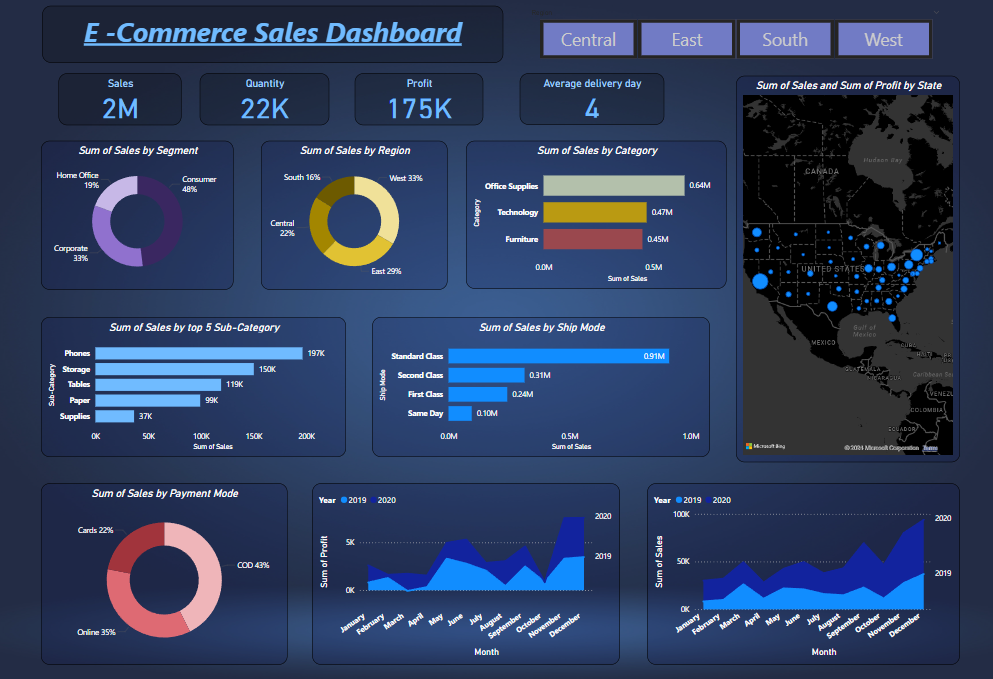

What the dashboard file says about the page in this screenshot:
{"tool":"powerbi","page":{"name":"DASHBOARD","canvas":[1600,1100],"ordinal":0},"visuals":[{"type":"clusteredBarChart","fields":{"Category":["Sheet1.Category"],"Y":["Sum(Sheet1.Sales)"]},"box":[752.9,230.8,417.1,237.1],"z":0},{"type":"clusteredBarChart","title":"Sum of Sales by top 5 Sub-Category","fields":{"Category":["Sheet1.Sub-Category"],"Y":["Sum(Sheet1.Sales)"]},"box":[72.6,512.6,488,224],"z":1000},{"type":"clusteredBarChart","fields":{"Category":["Sheet1.Ship Mode"],"Y":["Sum(Sheet1.Sales)"]},"box":[602.6,512.6,540,224],"z":2000},{"type":"stackedAreaChart","title":"Sum of top 5 Sales by Sub-Category","fields":{"Category":["Sheet1.Order Date.Variation.Date Hierarchy.Month","Sheet1.Order Date.Variation.Date Hierarchy.Day"],"Y":["Sum(Sheet1.Sales)"],"Series":["Sheet1.Order Date.Variation.Date Hierarchy.Year"]},"box":[1042.6,778.6,500,290],"z":3000},{"type":"stackedAreaChart","title":"Sum of top 5 Sales by Sub-Category","fields":{"Category":["Sheet1.Order Date.Variation.Date Hierarchy.Month","Sheet1.Order Date.Variation.Date Hierarchy.Day"],"Series":["Sheet1.Order Date.Variation.Date Hierarchy.Year"],"Y":["Sum(Sheet1.Profit)"]},"box":[506.6,778.6,492,290],"z":4000},{"type":"map","fields":{"Category":["Sheet1.State"],"Size":["Sum(Sheet1.Sales)"]},"box":[1184.3,126.6,358.6,618.6],"z":5000},{"type":"donutChart","fields":{"Category":["Sheet1.Segment"],"Y":["Sum(Sheet1.Sales)"]},"box":[72.6,230.6,308,238],"z":6000},{"type":"donutChart","fields":{"Y":["Sum(Sheet1.Sales)"],"Category":["Sheet1.Payment Mode"]},"box":[72.6,778.6,394,290],"z":7000},{"type":"donutChart","fields":{"Y":["Sum(Sheet1.Sales)"],"Category":["Sheet1.Region"]},"box":[424.6,230.6,298,238],"z":8000},{"type":"slicer","fields":{"Values":["Sheet1.Region"]},"box":[844,14,678,92],"z":9000},{"type":"textbox","box":[74.1,13.8,737.9,91.4],"z":10000},{"type":"card","title":"Sales","fields":{"Values":["Sum(Sheet1.Sales)"]},"box":[99.1,122.8,197.1,82.9],"z":11000},{"type":"card","title":"Quantity","fields":{"Values":["Sum(Sheet1.Quantity)"]},"box":[326.3,122.8,207.1,82.9],"z":12000},{"type":"card","title":"Profit","fields":{"Values":["Sum(Sheet1.Profit)"]},"box":[573.4,122.8,205.7,82.9],"z":13000},{"type":"card","title":"Average delivery day","fields":{"Values":["Avg(Sheet1.Column)"]},"box":[838.3,122.4,231,82.8],"z":14000}]}

Visuals, with their boxes in screenshot pixels (x1, y1, x2, y2), scaled from the page's 1600x1100 canvas onto the 993x679 screenshot:
clusteredBarChart - Sheet1.Category x Sum(Sheet1.Sales): bbox(467, 142, 726, 289)
"Sum of Sales by top 5 Sub-Category" clusteredBarChart: bbox(45, 316, 348, 455)
clusteredBarChart - Sheet1.Ship Mode x Sum(Sheet1.Sales): bbox(374, 316, 709, 455)
"Sum of top 5 Sales by Sub-Category" stackedAreaChart: bbox(647, 481, 957, 660)
"Sum of top 5 Sales by Sub-Category" stackedAreaChart: bbox(314, 481, 620, 660)
map - Sheet1.State x Sum(Sheet1.Sales): bbox(735, 78, 958, 460)
donutChart - Sheet1.Segment x Sum(Sheet1.Sales): bbox(45, 142, 236, 289)
donutChart - Sum(Sheet1.Sales) x Sheet1.Payment Mode: bbox(45, 481, 290, 660)
donutChart - Sum(Sheet1.Sales) x Sheet1.Region: bbox(264, 142, 448, 289)
slicer - Sheet1.Region: bbox(524, 9, 945, 65)
textbox: bbox(46, 9, 504, 65)
"Sales" card: bbox(62, 76, 184, 127)
"Quantity" card: bbox(203, 76, 331, 127)
"Profit" card: bbox(356, 76, 484, 127)
"Average delivery day" card: bbox(520, 76, 664, 127)
